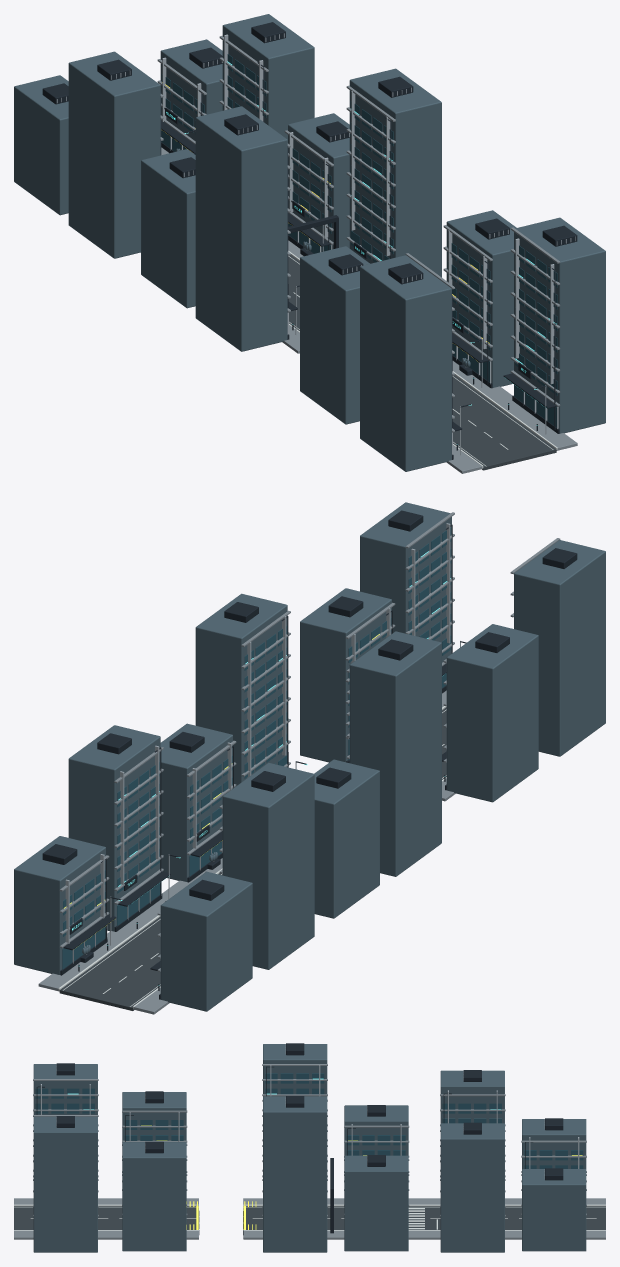
Rendered from MeridianCity.fbx.
The picture shows the model from 3 angles, top to bottom: view 1: azimuth 30°, elevation 25°; view 2: azimuth 150°, elevation 25°; view 3: azimuth 270°, elevation 25°; orthographic projection. The views are drawn at different scales.
Visible parts, largest first — view 1: Building_-1_03, Building_-1_05, Building_-1_01, Building_1_05, Building_1_03, Building_-1_04, Building_-1_02, Building_1_01, Building_-1_00, Building_1_04, Road_Landing, Building_1_02 (+3 smaller); view 2: Building_-1_03, Building_-1_05, Building_-1_01, Building_-1_04, Building_-1_00, Building_1_03, Building_1_01, Building_-1_02, Building_1_04, Building_1_00, Building_1_05, Building_1_02 (+2 smaller); view 3: Building_1_03, Building_1_05, Building_1_01, Building_1_04, Building_1_02, Building_1_00, Building_-1_01, Building_-1_00, Road_Main, Building_-1_02, Building_-1_03, Building_-1_04 (+6 smaller).
Boxes of the visible parts, x1,y1,x2,y2 form: Building_-1_03: (195, 106, 287, 351); Building_-1_05: (360, 255, 451, 471); Building_-1_01: (68, 51, 160, 258); Building_1_05: (514, 217, 605, 433); Building_1_03: (349, 68, 441, 277); Building_-1_04: (300, 246, 369, 424); Building_-1_02: (141, 149, 195, 308); Building_1_01: (222, 14, 314, 142); Building_-1_00: (14, 75, 68, 215); Building_1_04: (446, 210, 516, 387); Road_Landing: (452, 375, 556, 470); Building_1_02: (288, 113, 349, 251); Building_-1_03: (349, 631, 441, 876); Building_-1_05: (514, 540, 605, 756); Building_-1_01: (222, 762, 314, 969); Building_-1_04: (446, 624, 538, 802); Building_-1_00: (160, 871, 252, 1011); Building_1_03: (195, 593, 287, 787); Building_1_01: (68, 725, 160, 931); Building_-1_02: (314, 759, 379, 918); Building_1_04: (300, 588, 391, 762); Building_1_00: (14, 836, 105, 974); Building_1_05: (360, 502, 451, 662); Building_1_02: (160, 723, 232, 881); Building_1_03: (263, 1096, 327, 1252); Building_1_05: (33, 1116, 97, 1252); Building_1_01: (440, 1123, 504, 1252); Building_1_04: (122, 1142, 186, 1251); Building_1_02: (344, 1155, 408, 1251); Building_1_00: (522, 1169, 586, 1251); Building_-1_01: (440, 1070, 504, 1123); Building_-1_00: (522, 1119, 586, 1168); Road_Main: (243, 1206, 605, 1229); Building_-1_02: (344, 1105, 408, 1155); Building_-1_03: (263, 1044, 327, 1094); Building_-1_04: (122, 1092, 186, 1140).
Size of the model in its own units: 2190 by 2272 by 8000.
